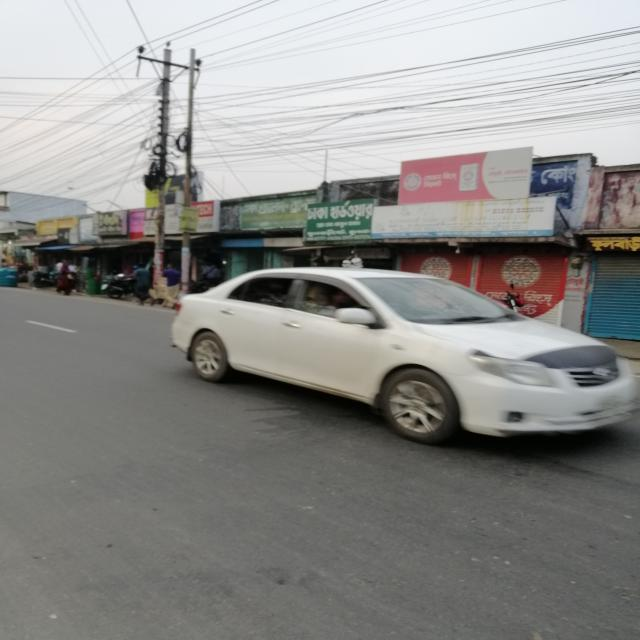Car: (139, 255, 640, 455)
